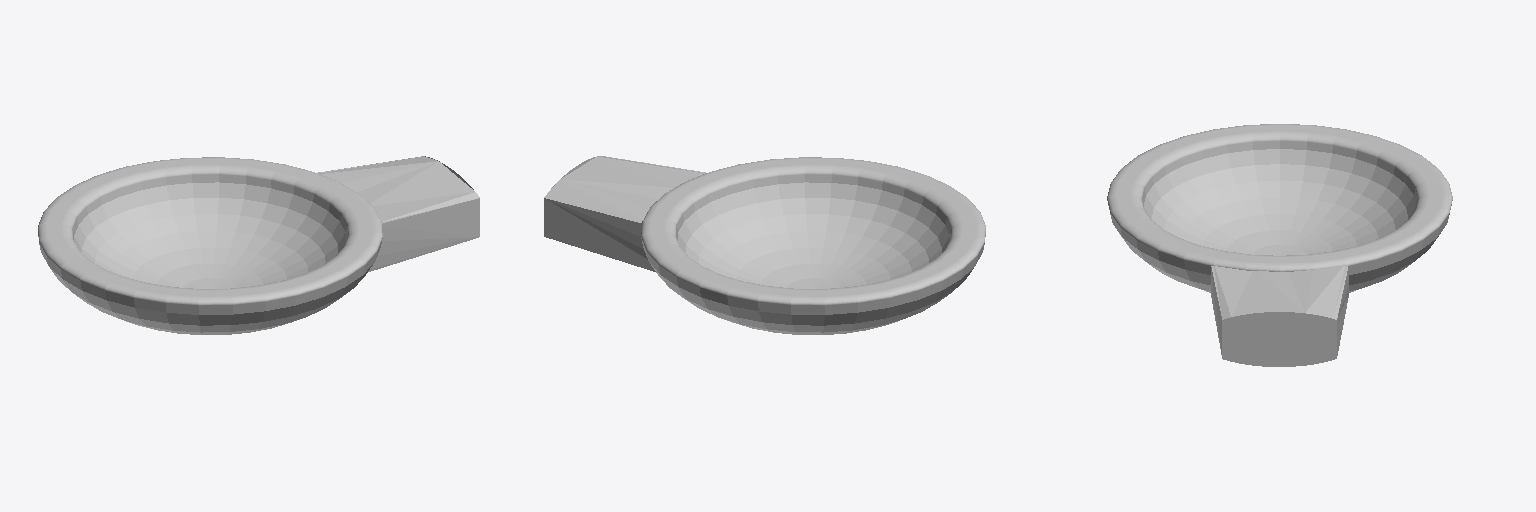
File: castanetsv2WIP_baixo.obj
3 views of the same model, side by side, from view 1: azimuth 30°, elevation 25°; view 2: azimuth 150°, elevation 25°; view 3: azimuth 270°, elevation 25° (orthographic).
Parts seen in each view (by area): view 1: Cube; view 2: Cube; view 3: Cube.
Part boxes in pixels (x1,y1,x2,y2): Cube: (38, 156, 479, 334); Cube: (544, 156, 985, 334); Cube: (1107, 124, 1452, 366).
Size of the model in its own units: 2.59 by 0.5 by 1.99.